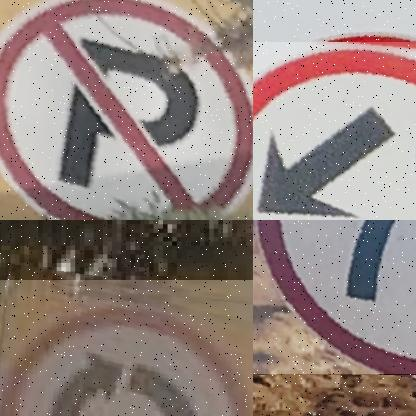No Parking: (0, 0, 253, 220)
Road Divides: (253, 43, 416, 220)
Roundabout Ahead: (0, 280, 253, 416)
Speed Limit -70 kmph-: (253, 220, 416, 373)
